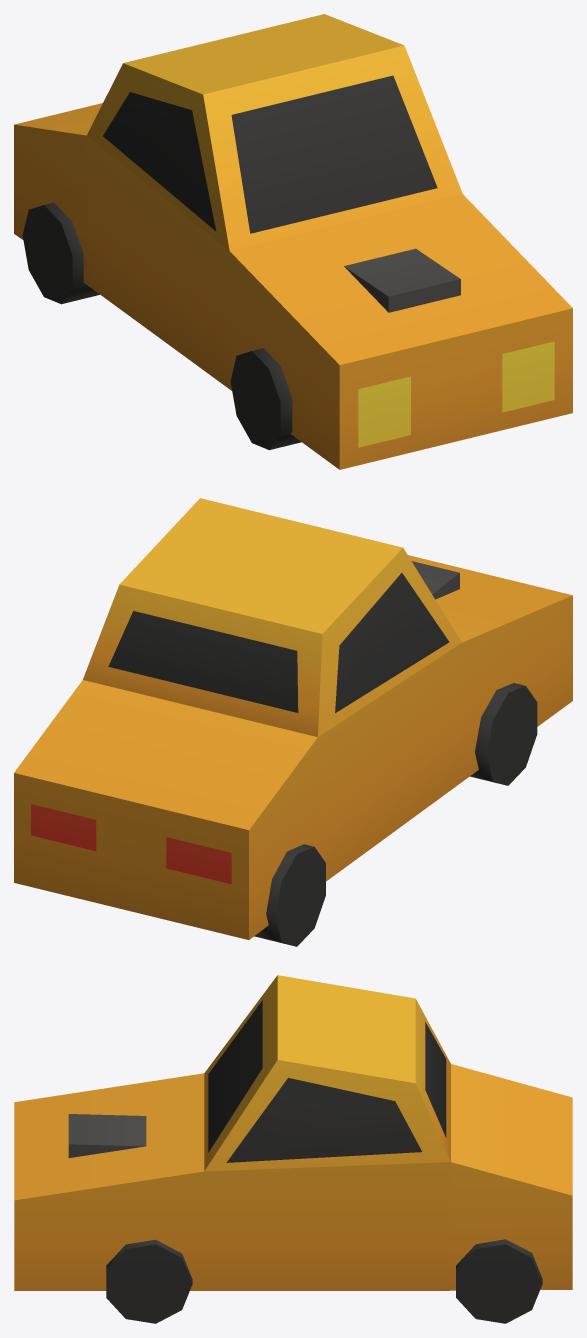
The model's file is Car_7_1.fbx.
3 renders of one model, top to bottom at view 1: azimuth 30°, elevation 25°; view 2: azimuth 150°, elevation 25°; view 3: azimuth 270°, elevation 25°, orthographic. The views are drawn at different scales.
Visible parts, largest first — view 1: Car_7_1; view 2: Car_7_1; view 3: Car_7_1.
Boxes of the visible parts, bbox=[...] form: Car_7_1: bbox=[14, 14, 572, 469]; Car_7_1: bbox=[14, 498, 572, 946]; Car_7_1: bbox=[14, 975, 572, 1323].
Bounding box in the file's own units: 212 × 231 × 464.
